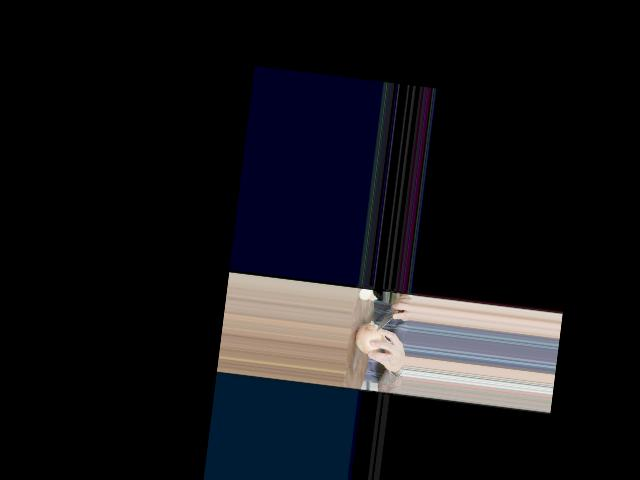onion: (355, 321, 385, 357)
